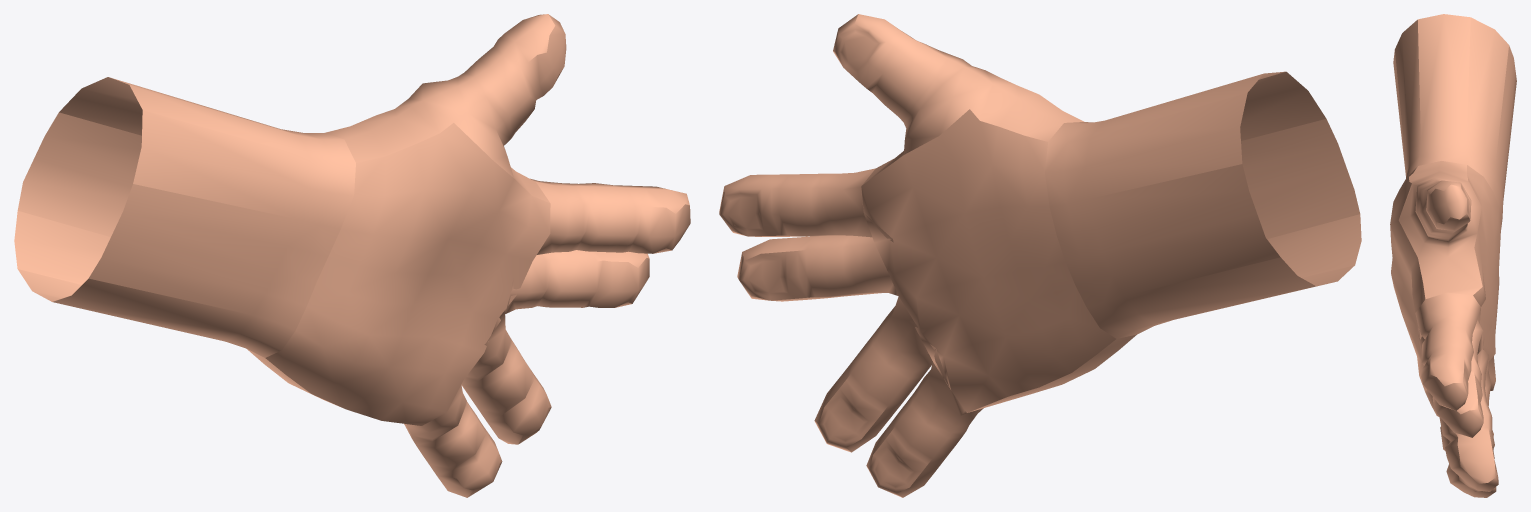
File: Spock.glb
3 views of the same model, side by side, from view 1: azimuth 30°, elevation 25°; view 2: azimuth 150°, elevation 25°; view 3: azimuth 270°, elevation 25° (orthographic). The views are drawn at different scales.
Parts seen in each view (by area): view 1: 25.001; view 2: 25.001; view 3: 25.001.
Boxes of the visible parts, bbox=[...] form: 25.001: bbox=[14, 14, 690, 497]; 25.001: bbox=[719, 14, 1361, 497]; 25.001: bbox=[1390, 14, 1516, 497].
Size of the model in its own units: 45.07 by 33.93 by 10.8.
